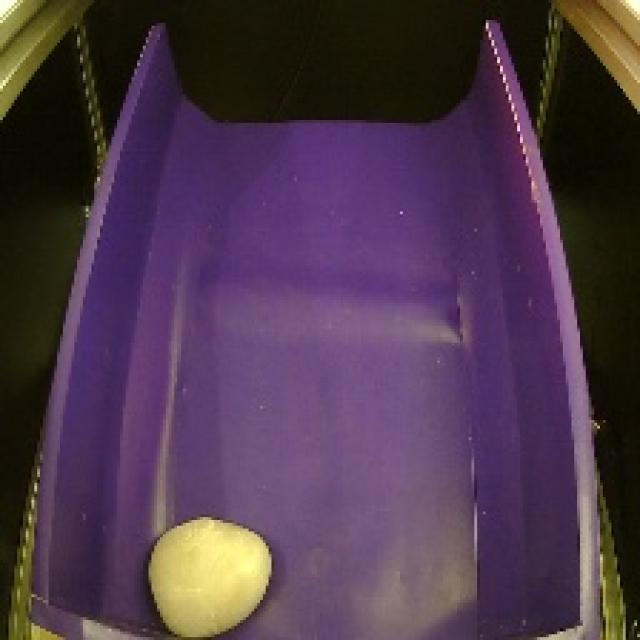cobbles: (142, 505, 280, 640)
